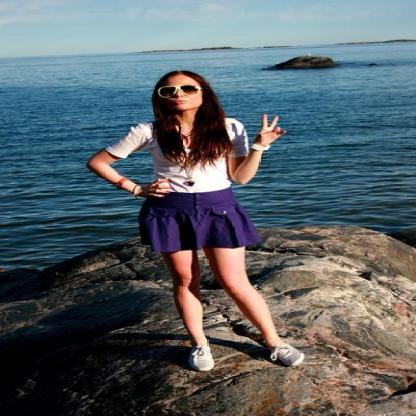shirt: (112, 118, 261, 191)
shoe: (192, 330, 296, 370)
skirt: (128, 174, 263, 256)
